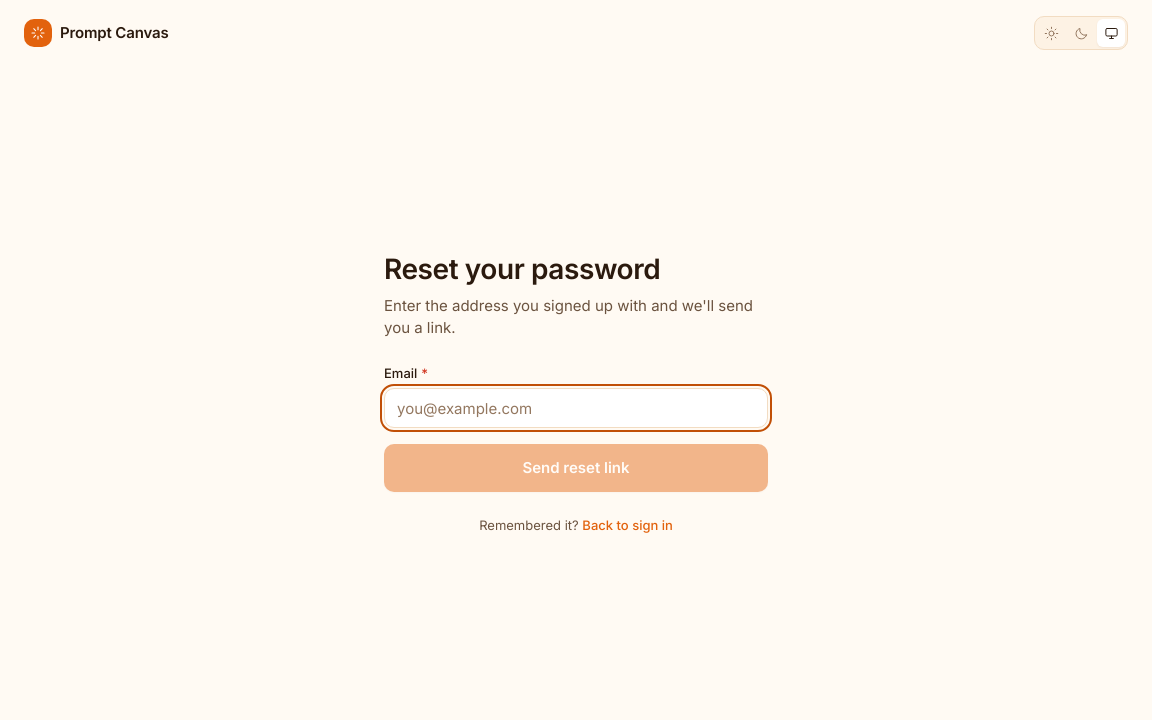
Test: requesting a reset link › surfaces a rate limit
In the field labelled "Email*": (576, 408) [384,388,768,428], type "painter@example.com"
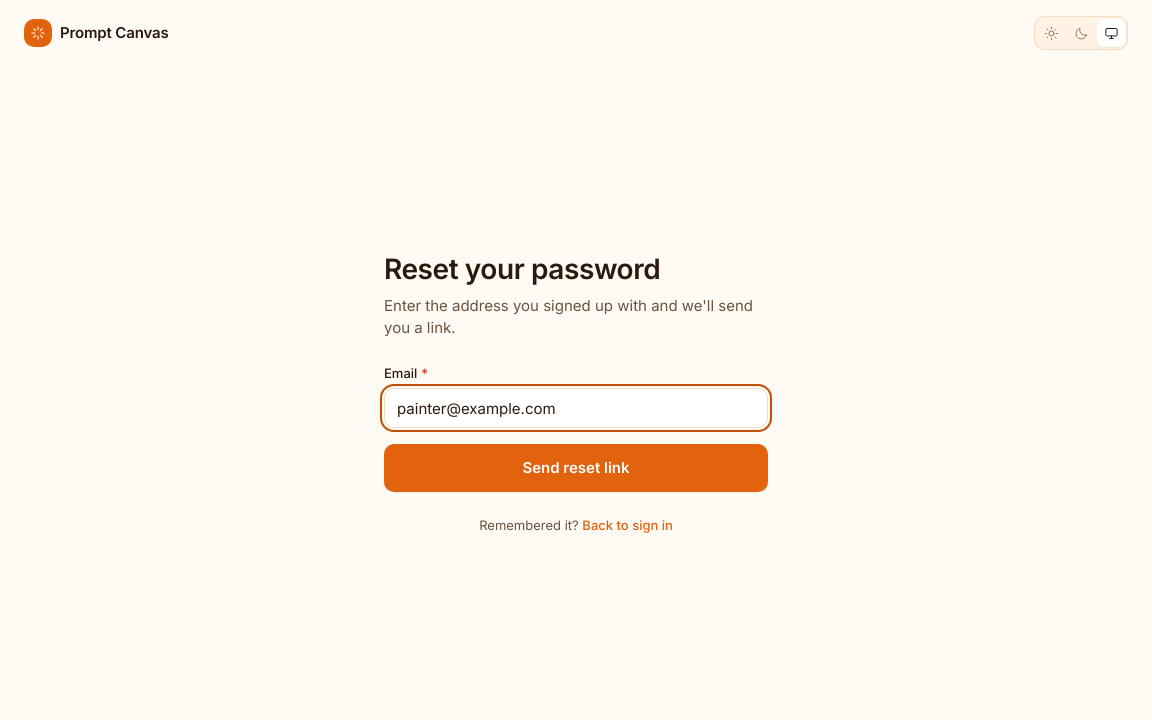
Click the button "Send reset link": (576, 468) [384,444,768,492]
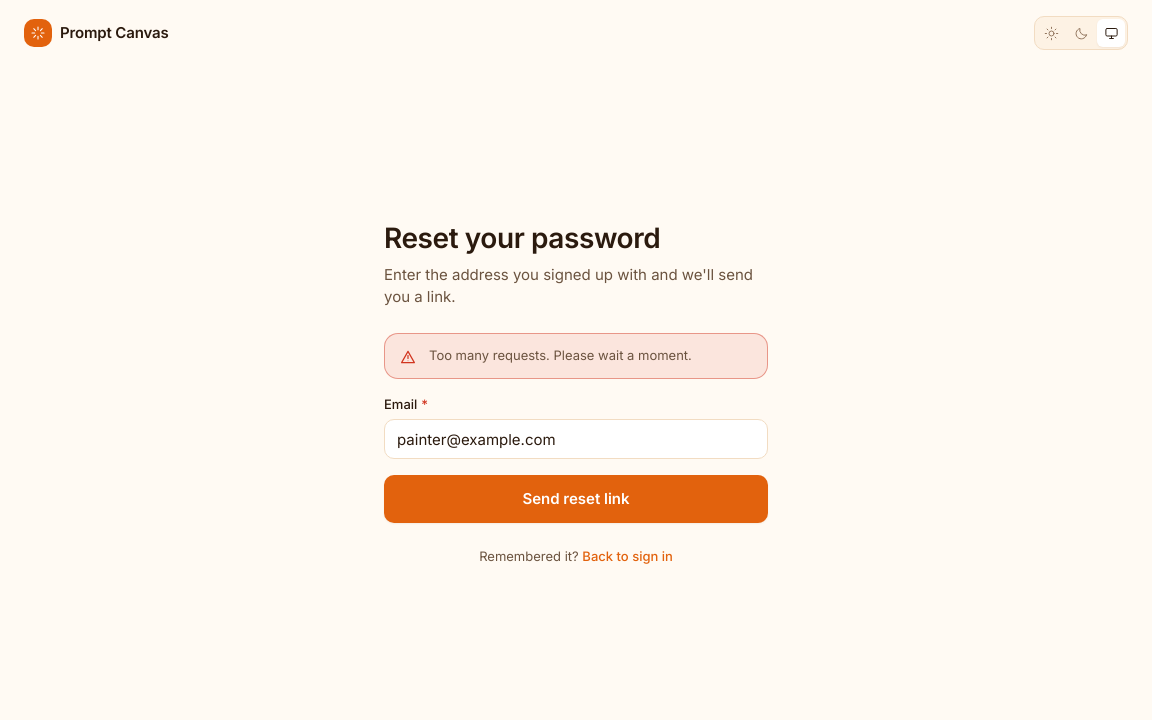
Now the message shows "Too many requests", box [429,347,692,363]
